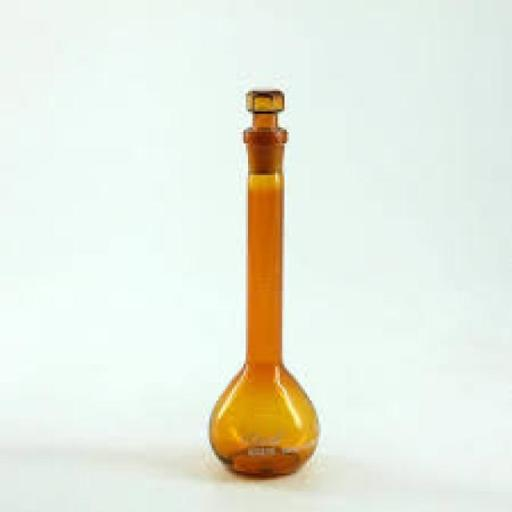glass: (191, 72, 326, 490)
